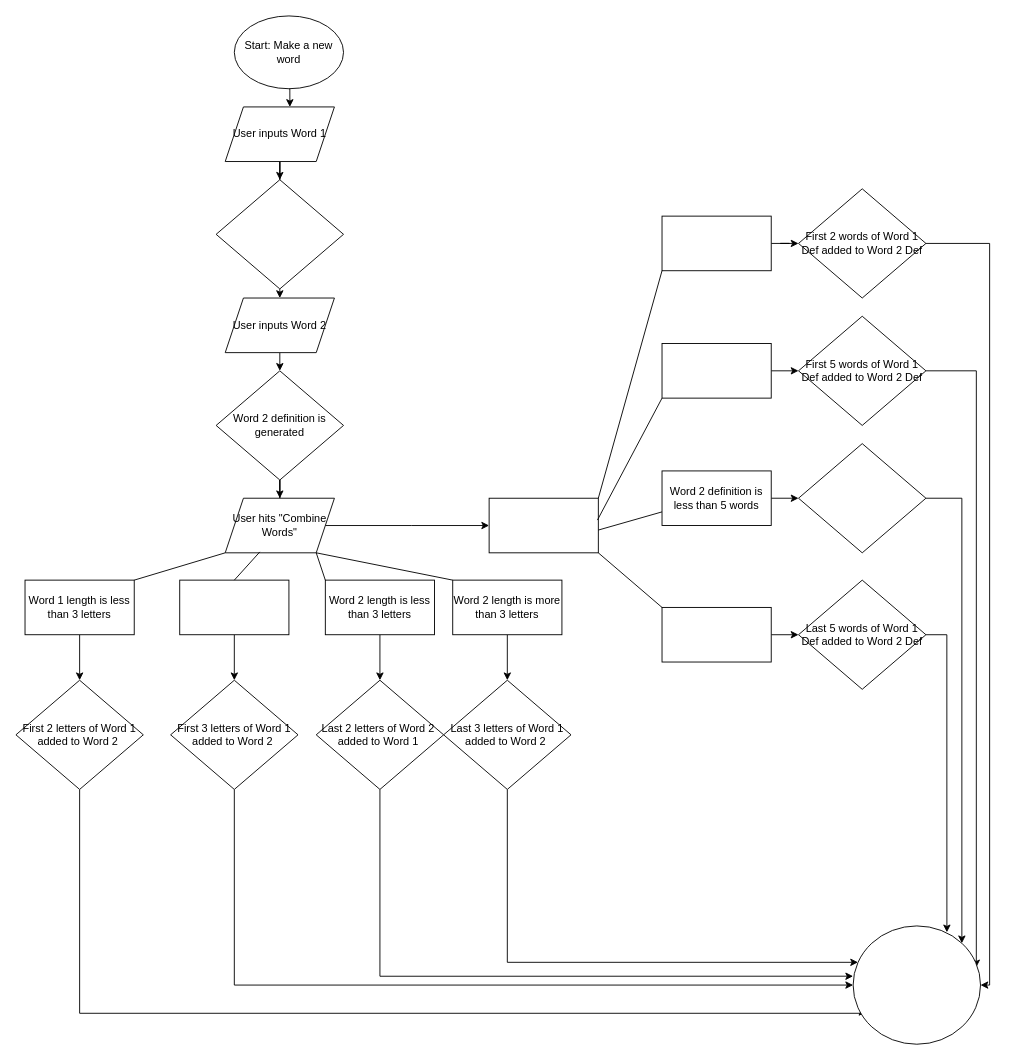
The diagram is 1013 pixels wide and 1060 high, and some of its shapes have lost their labels. The box of each missing label's shape, as (x1, y1, x2, y2) in pixels:
Definitions generated for each word.: (488, 497, 598, 553)
End: New word and definition is generated: (852, 925, 981, 1044)
Last 2 words of Word 2 Def added to Word 1 Def: (798, 443, 926, 553)
Word 1 definition is generated: (215, 179, 344, 289)
Word 1 definition is less than 5 words: (661, 215, 771, 271)
Word 1 definition is more than 5 words: (661, 343, 771, 398)
Word 1 length is more than 3 letters: (179, 579, 289, 635)
Word 2 definition is more than 5 words: (661, 607, 771, 662)
